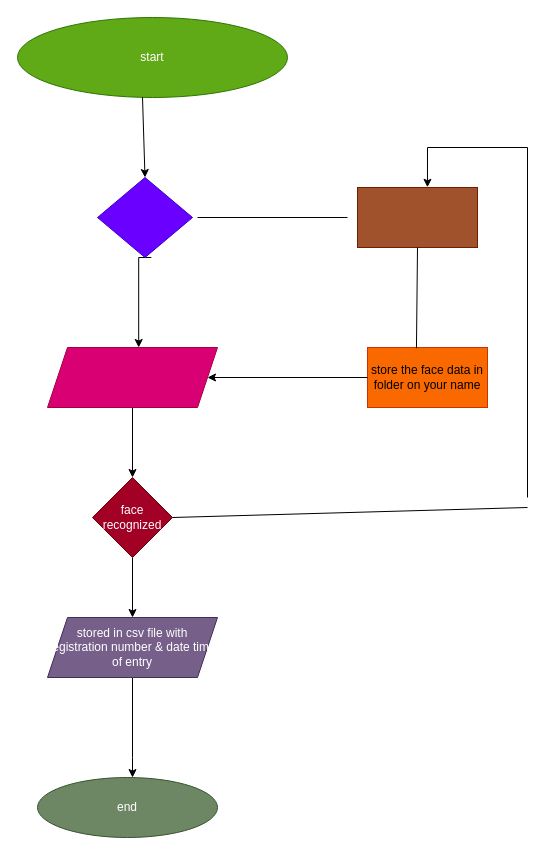
The diagram is 546 pixels wide and 855 high, and some of its shapes have lost their labels. The box of each missing label's shape, as (x1, y1, x2, y2) in pixels:
give your photograph: (356, 186, 478, 248)
new user: (96, 176, 192, 258)
recognise the face: (46, 346, 218, 408)
